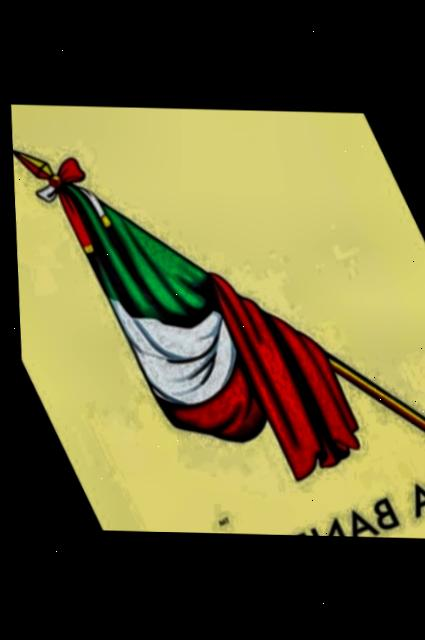La Bandera: (9, 110, 425, 537)
